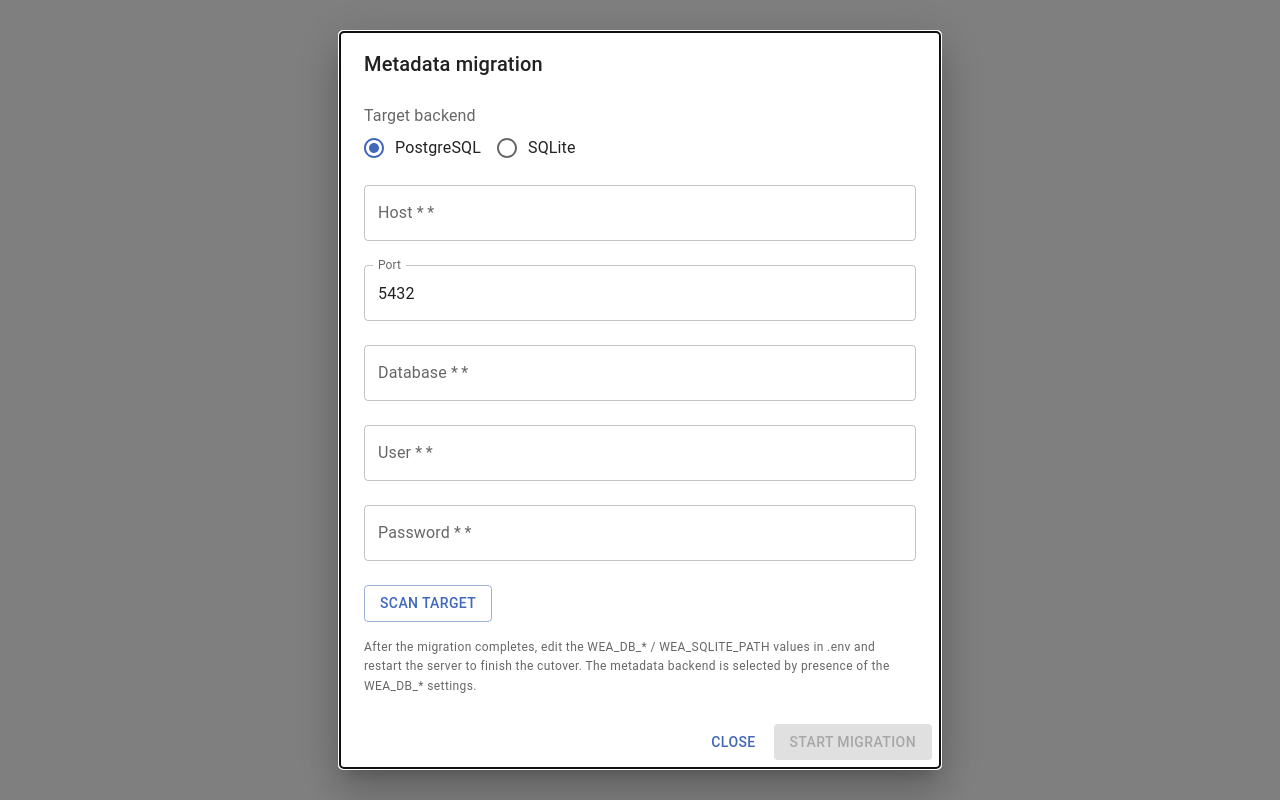
Test case: MetadataMigrationDialog › scans the target and reports an empty schema
Type "db.local" into the field labelled "Host * *" at (640, 213), box [364,185,916,241]
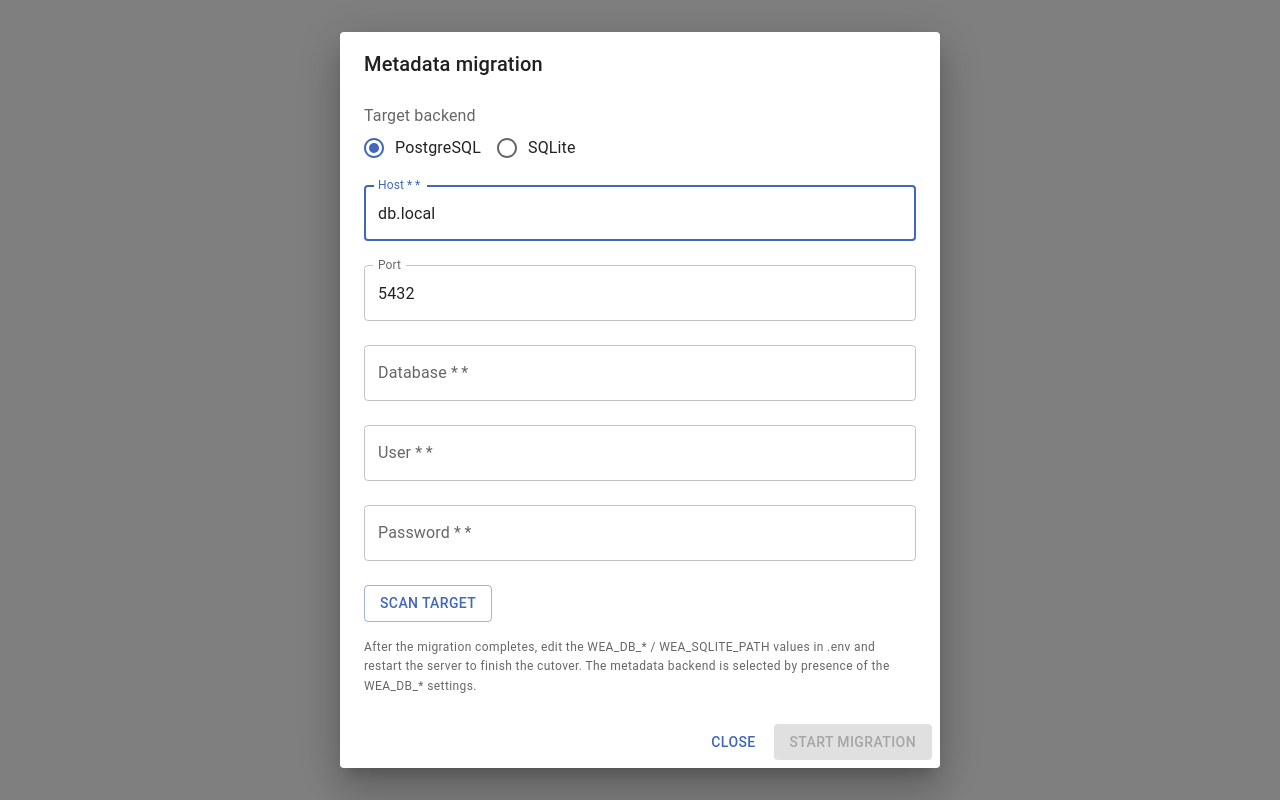
Type "webdav" into the field labelled "Database * *" at (640, 373), box [364,345,916,401]
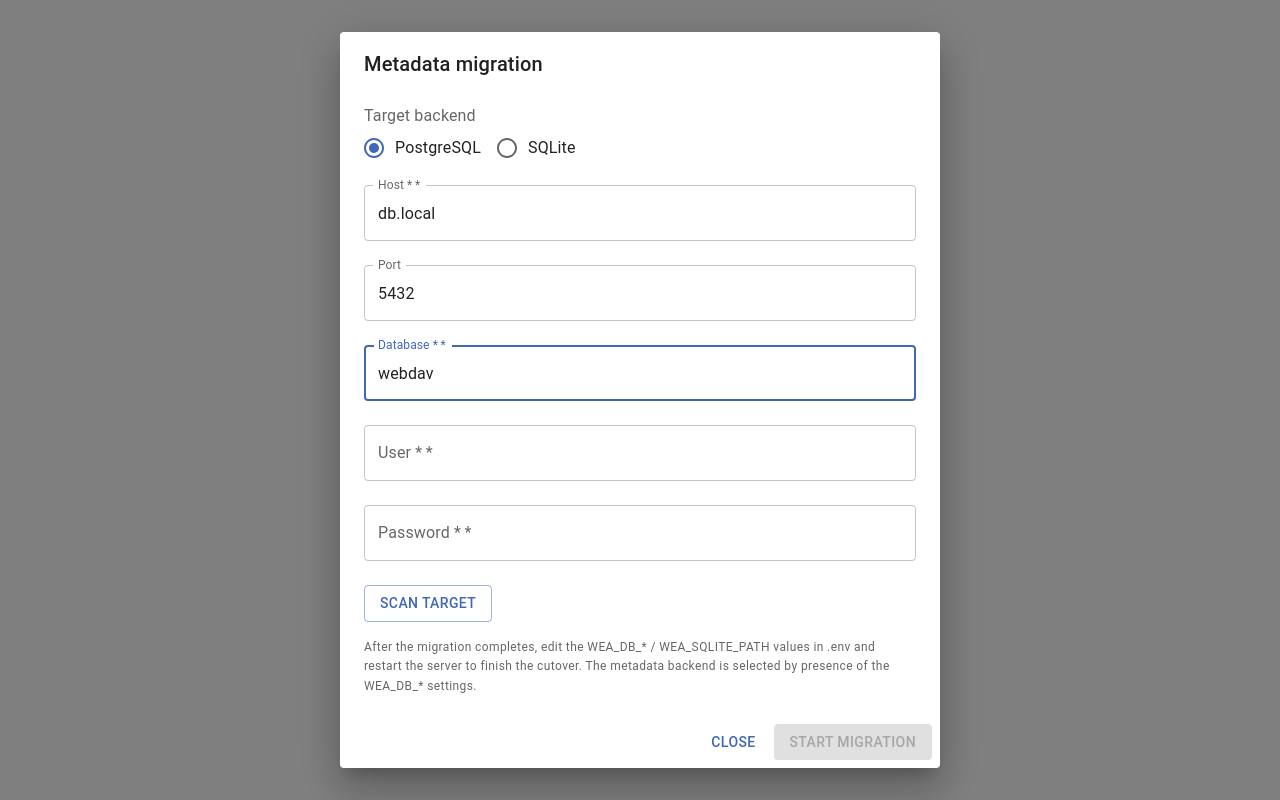
Type "admin" into the field labelled "User * *" at (640, 453), box [364,425,916,481]
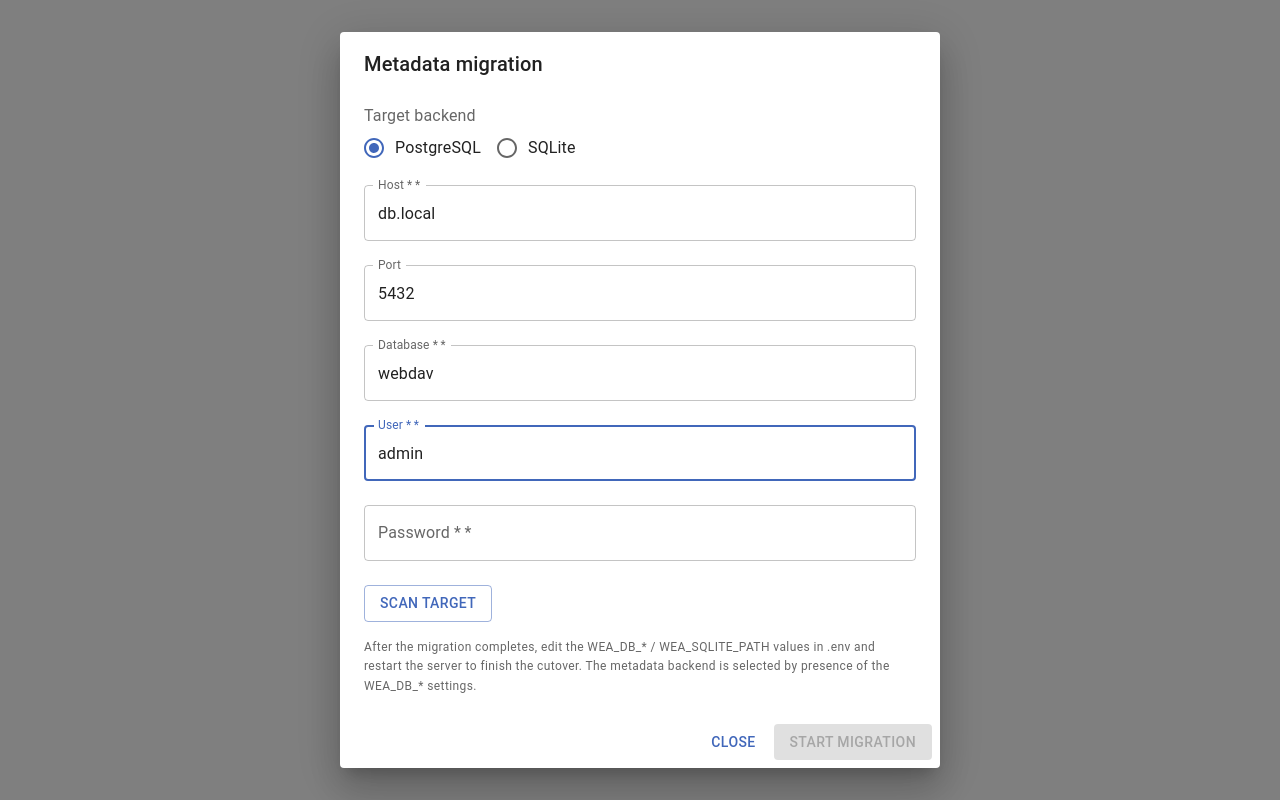
Type "secret" into the password field labelled "Password * *" at (640, 533), box [364,505,916,561]
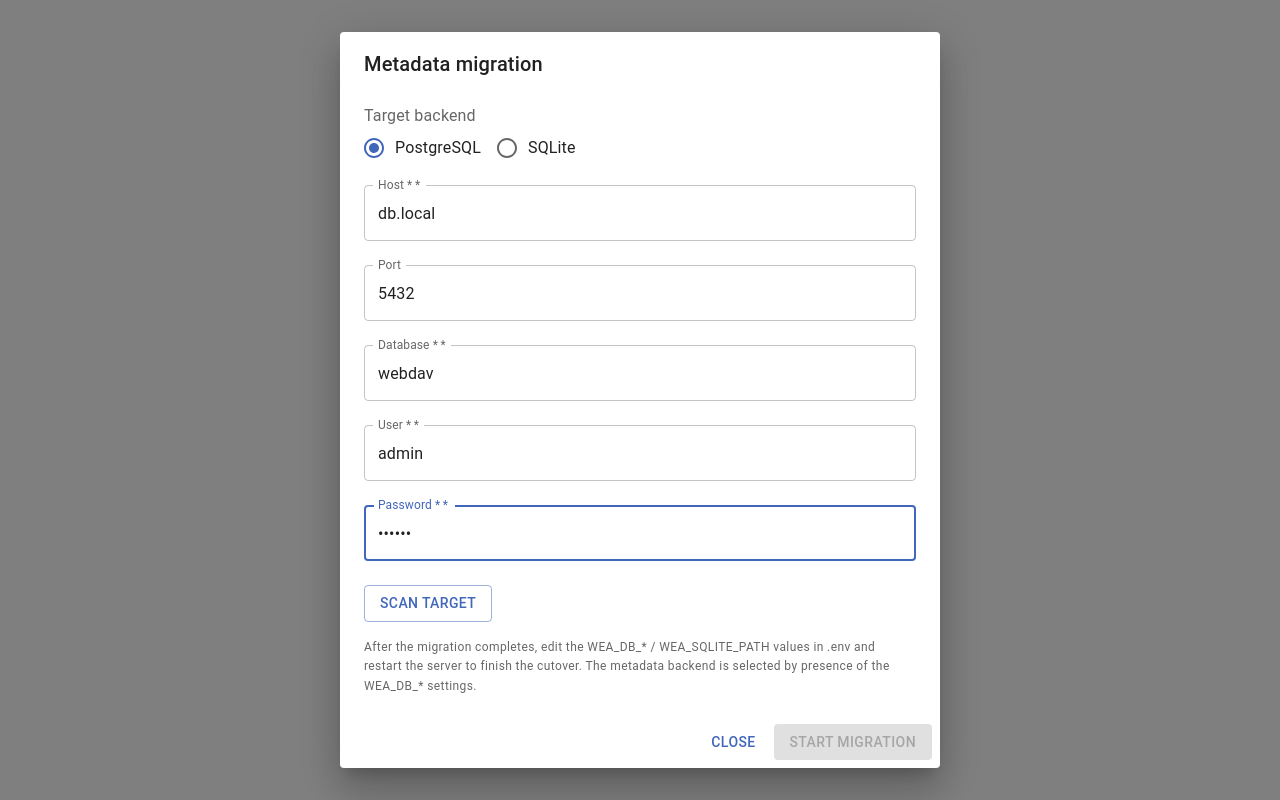
Click the button "Scan target" at (428, 603), box [364,585,492,622]
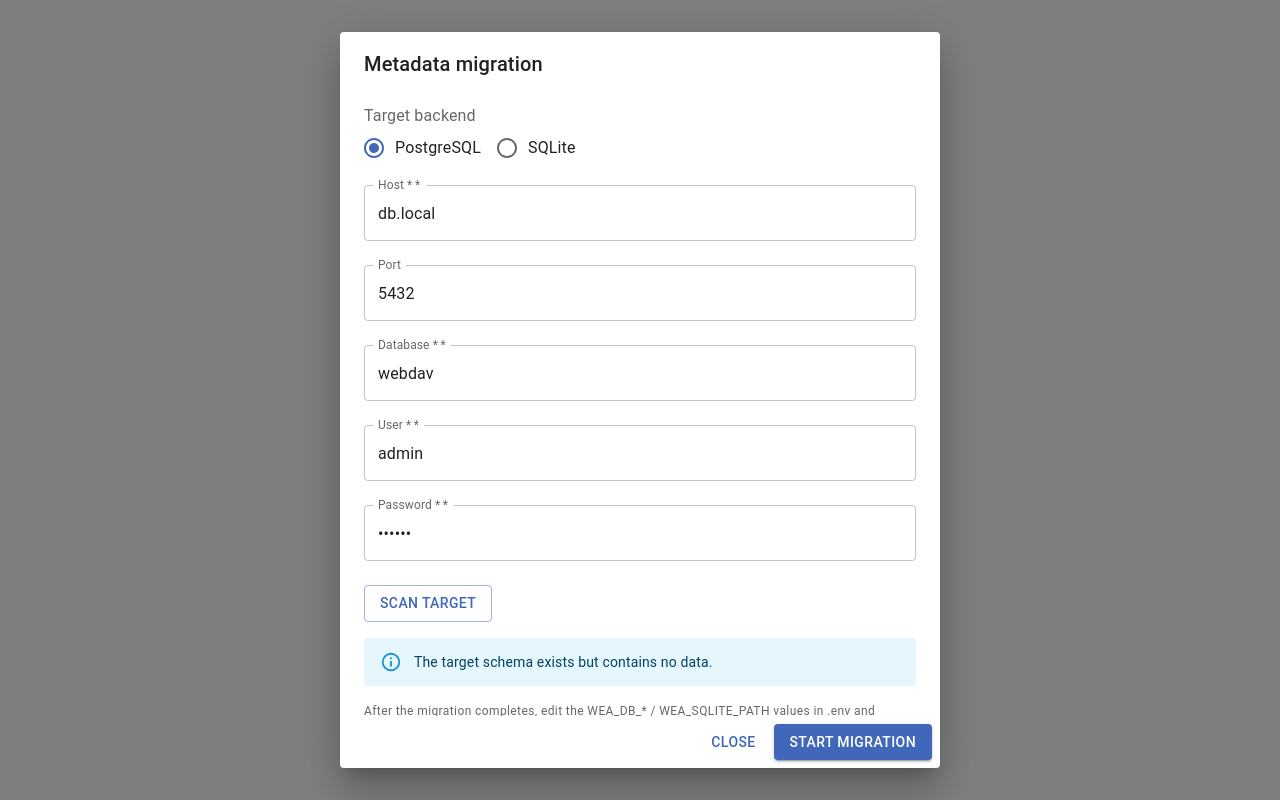
Check: the text "The target schema exists but contains no data." is shown, box [414,654,713,670]
